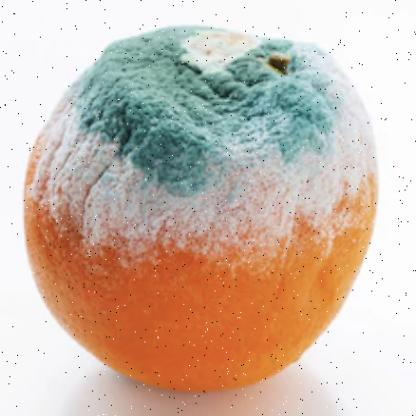rotten: (25, 23, 377, 392)
